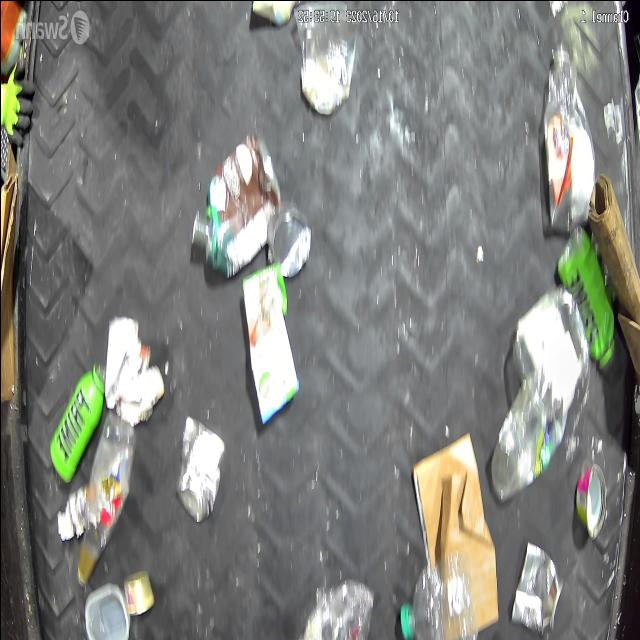can: (171, 406, 225, 524), (508, 534, 564, 638), (264, 180, 310, 288), (571, 454, 610, 545)
non_white_jug: (184, 122, 278, 286)
plastic_bottle: (396, 546, 476, 640), (297, 579, 372, 640)
